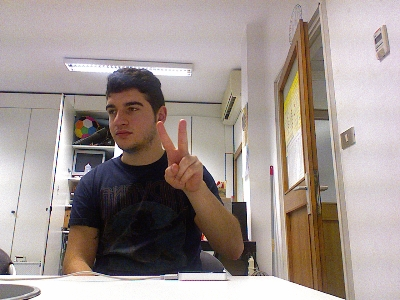剪刀: (154, 118, 203, 192)
